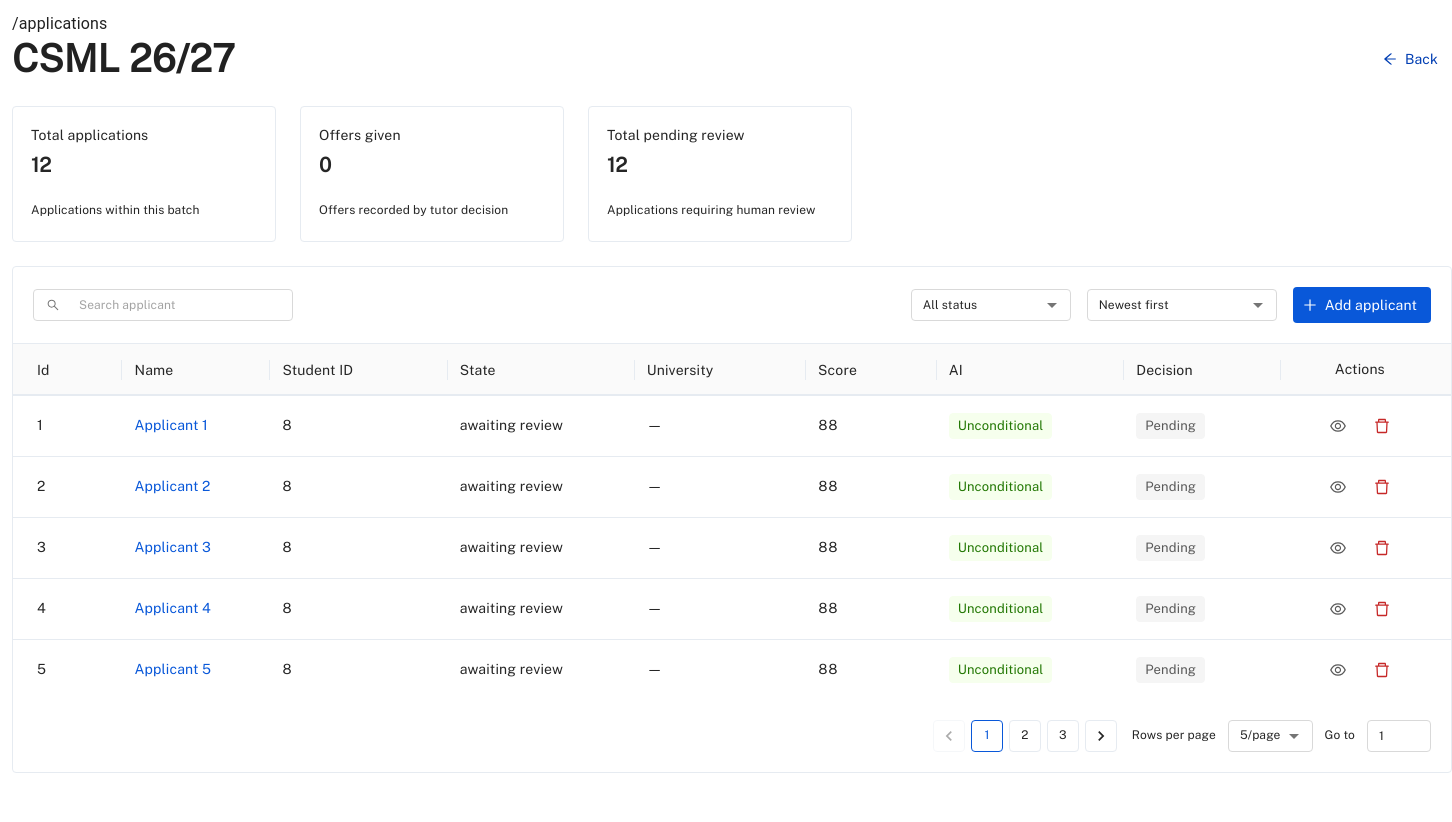
applicant column sorting › sorts the whole filtered result before pagination and returns to page one
Click the button named "Go to page 2".
click(1025, 736)  # box [1009,720,1041,752]
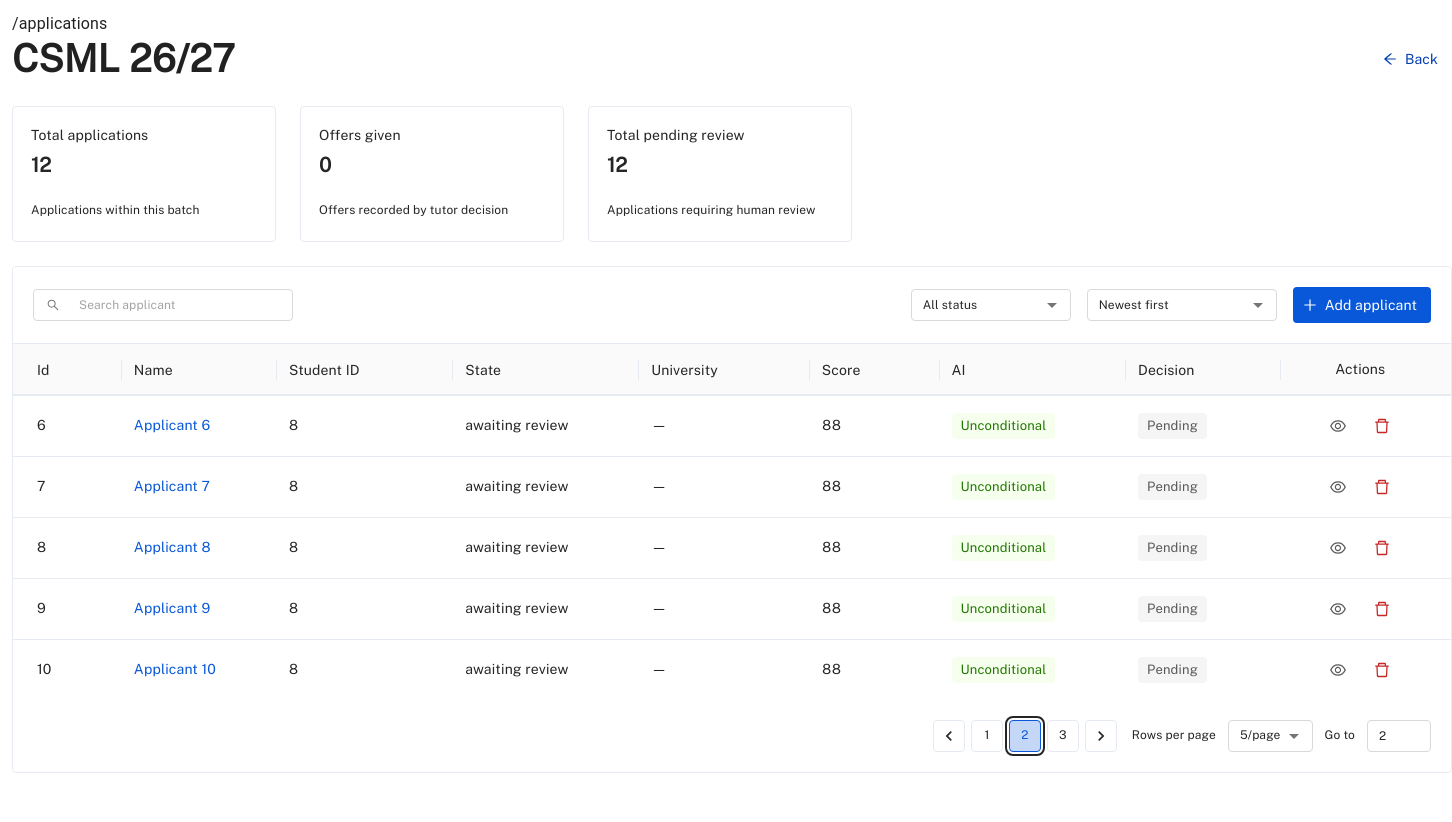
Check: the number field labelled "Go to" holds "2", box [1367,720,1431,752]
Click the button "Id".
click(43, 370)  # box [37,362,50,378]
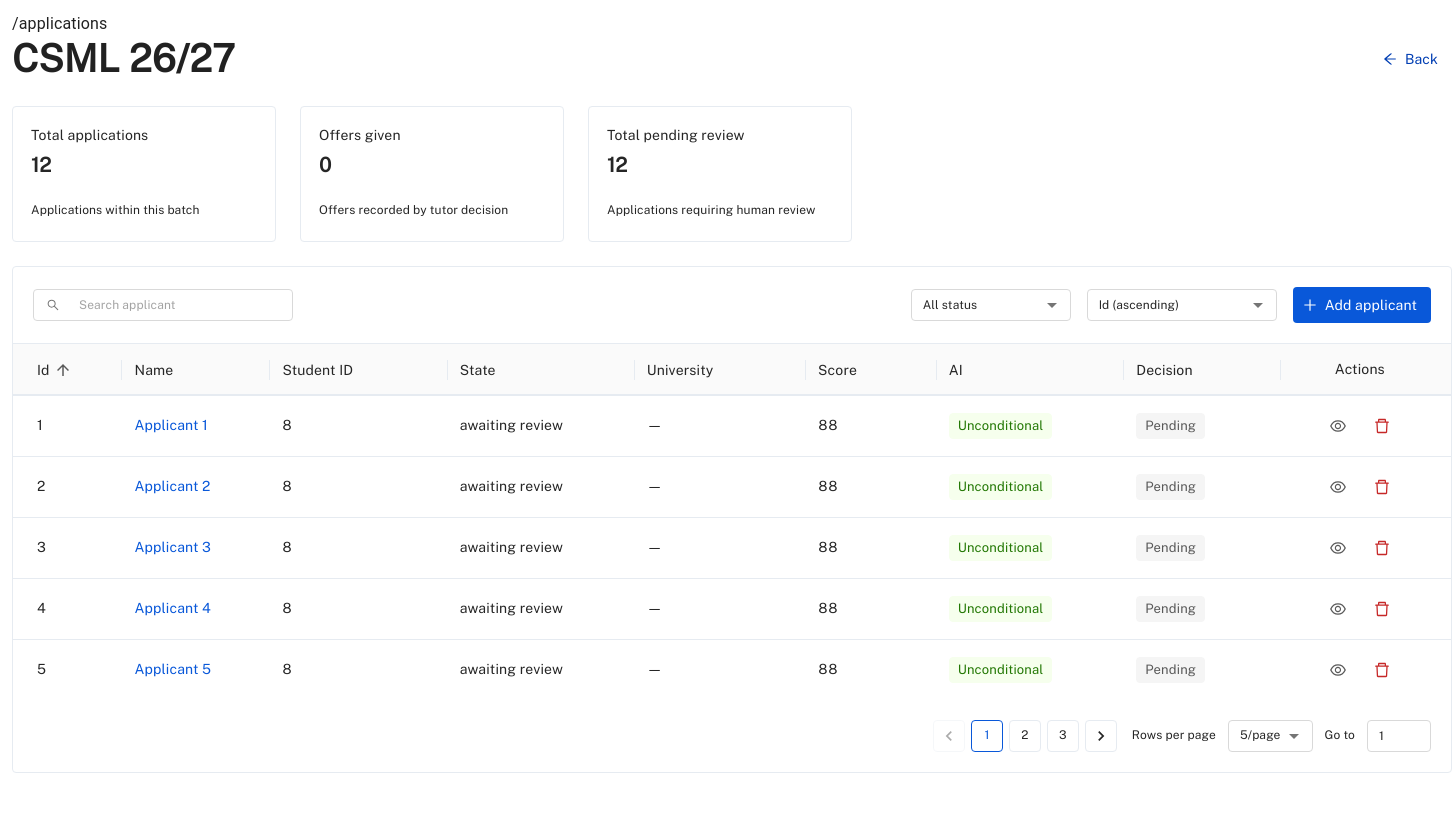
Check: the number field labelled "Go to" holds "1", box [1367,720,1431,752]
Click the button "Id".
click(56, 370)  # box [37,358,76,382]
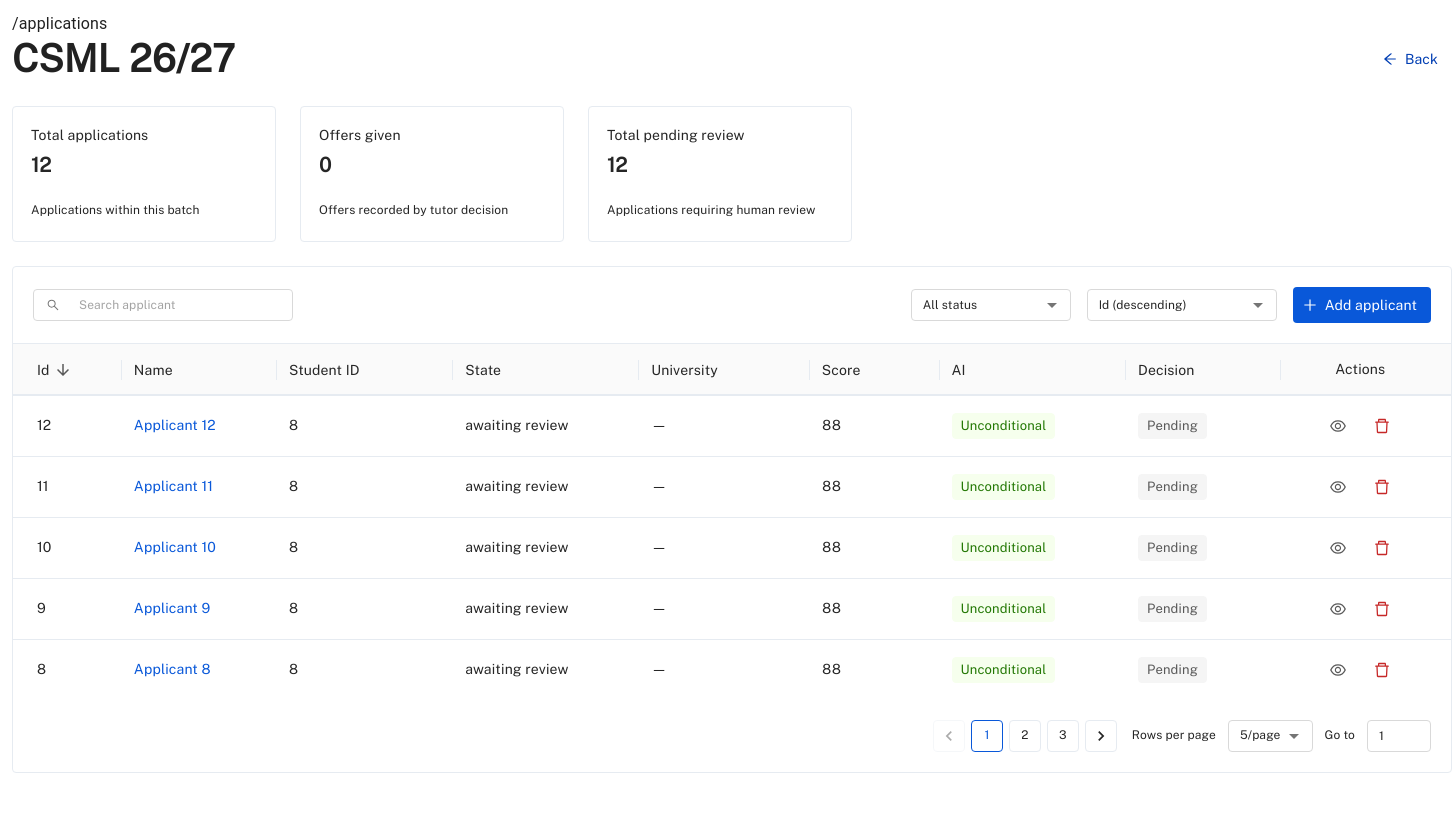
Type "Applicant 1" into the field labelled "Search applicant".
click(180, 305); type("Applicant 1")  # box [67,289,293,321]
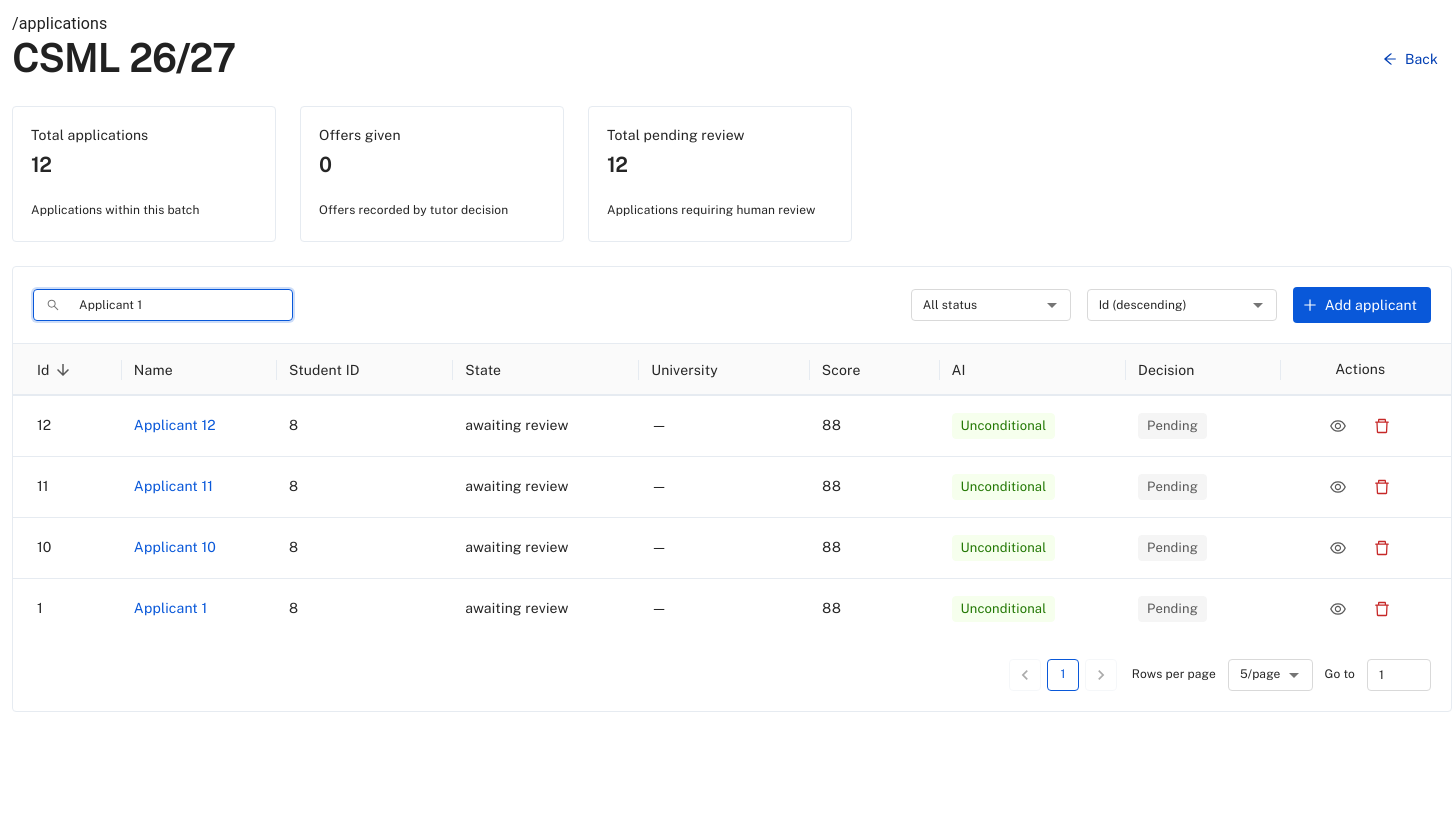
Check: the button "3" is gone
